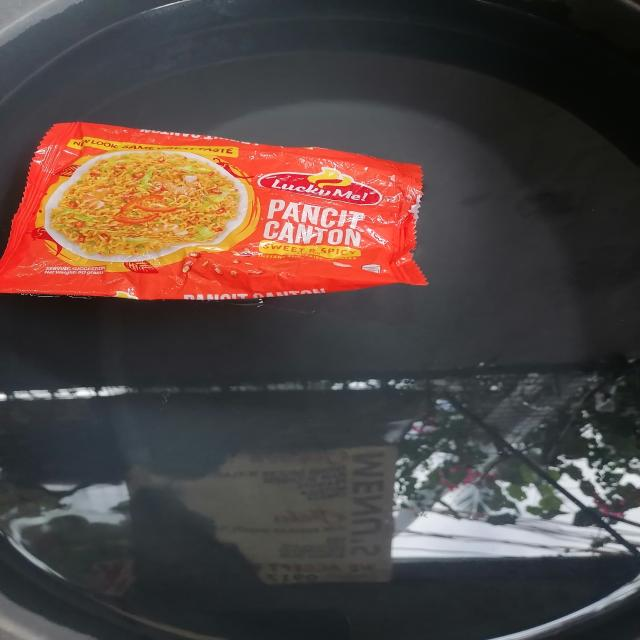Plastic Wrapper: (0, 122, 427, 300)
